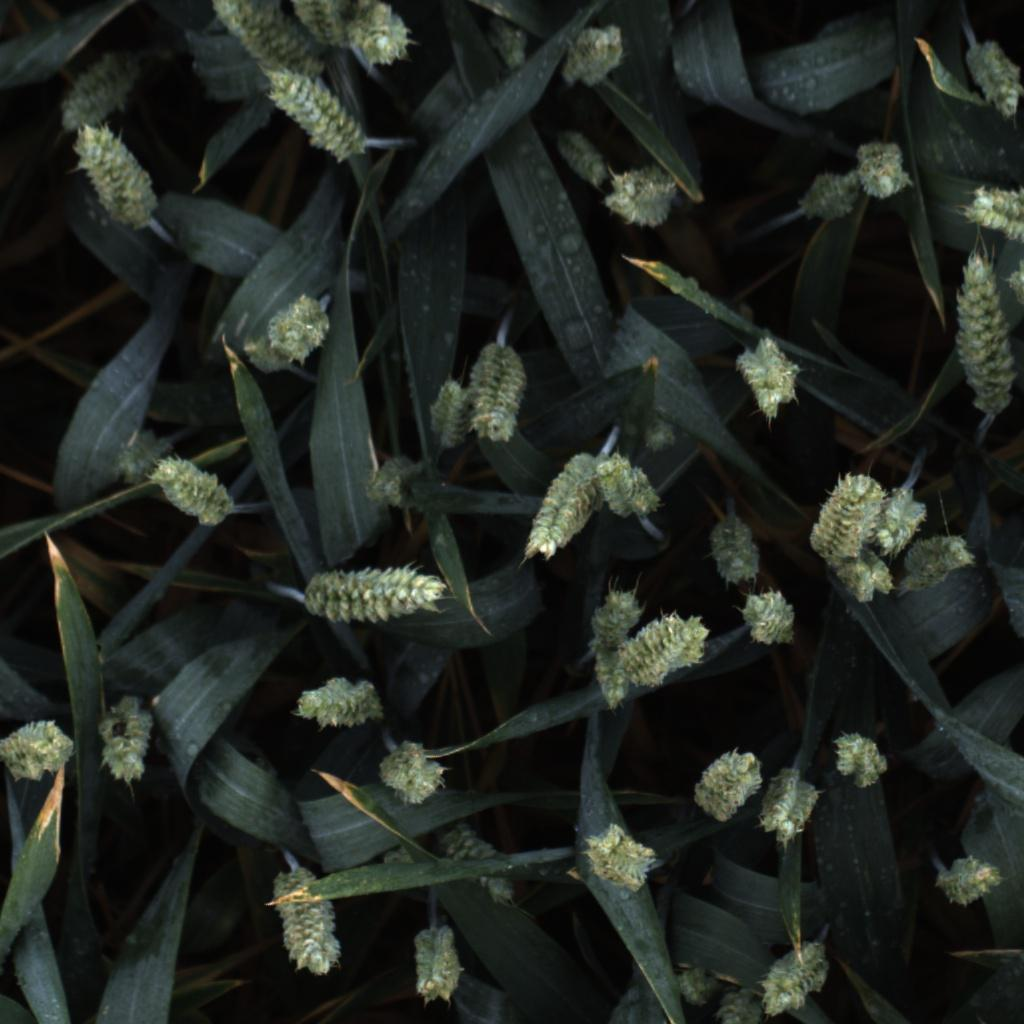0-0: (209, 0, 336, 94), (293, 555, 448, 631), (950, 248, 1016, 424), (71, 123, 163, 232), (263, 69, 363, 163), (269, 872, 347, 984), (524, 446, 592, 567), (622, 610, 714, 690), (149, 447, 237, 530), (466, 335, 534, 441), (53, 44, 132, 135), (809, 467, 884, 557), (730, 335, 806, 423), (440, 825, 519, 904), (288, 673, 390, 734), (92, 693, 158, 787), (578, 820, 659, 896), (265, 289, 341, 368), (692, 744, 765, 826), (0, 717, 82, 787), (760, 936, 829, 1018), (592, 447, 666, 523), (755, 765, 825, 844), (407, 922, 468, 1010), (961, 38, 1024, 123), (602, 163, 678, 233), (377, 740, 450, 811), (554, 19, 630, 87), (927, 848, 1003, 912), (961, 178, 1024, 255), (344, 0, 414, 69), (850, 129, 913, 205), (707, 511, 765, 592), (828, 723, 895, 791), (738, 583, 802, 653), (357, 449, 429, 510), (422, 374, 479, 451), (907, 531, 977, 593), (586, 584, 651, 648), (870, 482, 927, 554), (795, 168, 860, 230), (555, 122, 613, 190), (587, 640, 633, 720), (836, 555, 897, 614), (114, 426, 175, 484), (485, 14, 535, 80), (276, 0, 349, 42), (671, 961, 727, 1010), (708, 978, 763, 1024), (637, 413, 685, 457), (378, 841, 419, 873)
